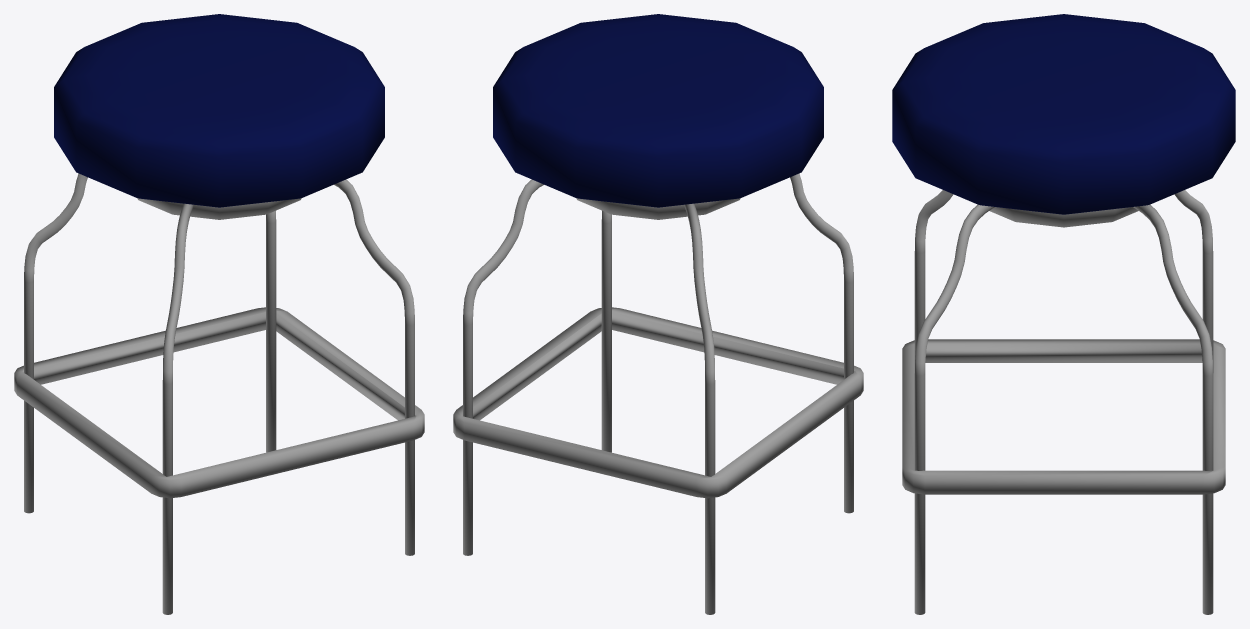
File: Stool Chair.fbx
3 renders of one model, left to right at view 1: azimuth 30°, elevation 25°; view 2: azimuth 150°, elevation 25°; view 3: azimuth 270°, elevation 25°, orthographic. The views are drawn at different scales.
Visible parts, largest first — view 1: Seat, Stool Chair; view 2: Seat, Stool Chair; view 3: Seat, Stool Chair.
Boxes of the visible parts, x1,y1,x2,y2 form: Seat: (54,14,384,207); Stool Chair: (14,173,424,614); Seat: (493,14,823,207); Stool Chair: (453,173,863,614); Seat: (892,14,1235,214); Stool Chair: (902,190,1225,614).
Bounding box in the file's own units: 37.84 × 58.04 × 37.84.
